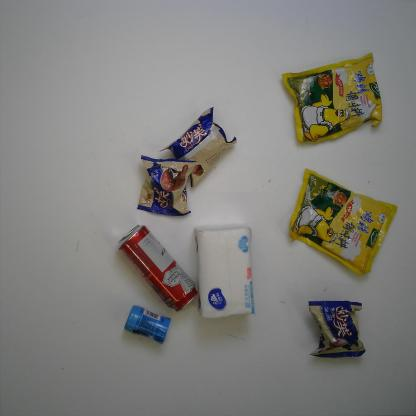Alcohol: (117, 224, 199, 312)
Dessert: (159, 106, 237, 189), (137, 155, 198, 217), (308, 299, 366, 358)
Gum: (124, 305, 171, 344)
Seasoner: (288, 168, 399, 277), (280, 51, 382, 144)
Tissue: (194, 224, 257, 319)
